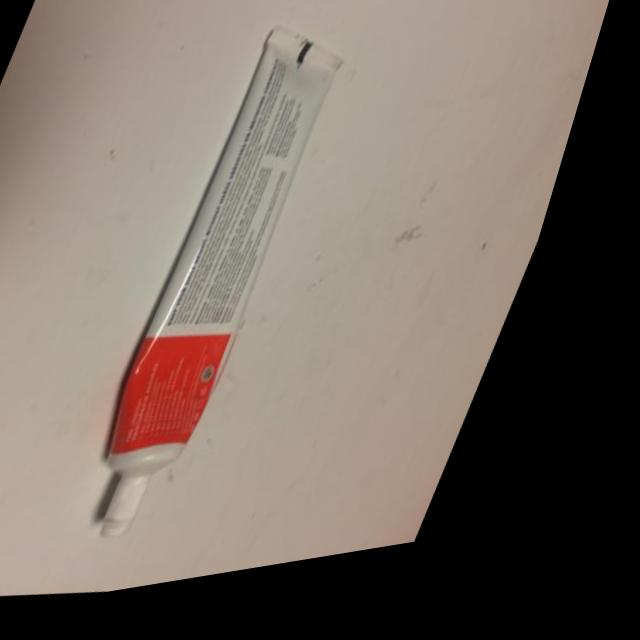trash: (26, 0, 394, 608)
